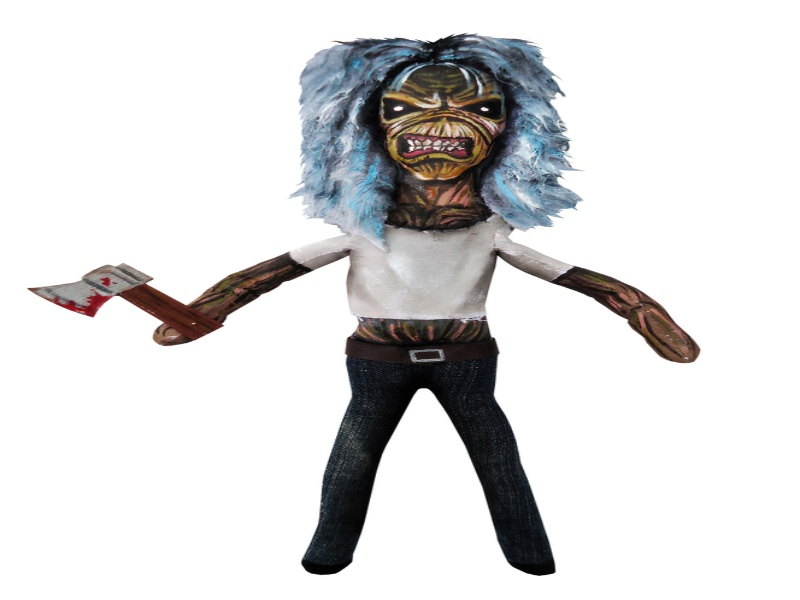axe: (22, 258, 162, 323)
